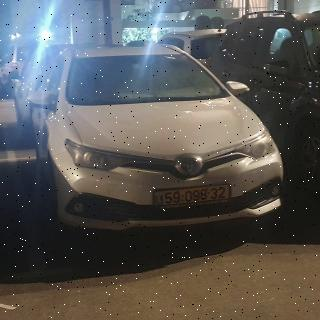LicensePlate: (162, 185, 231, 205)
